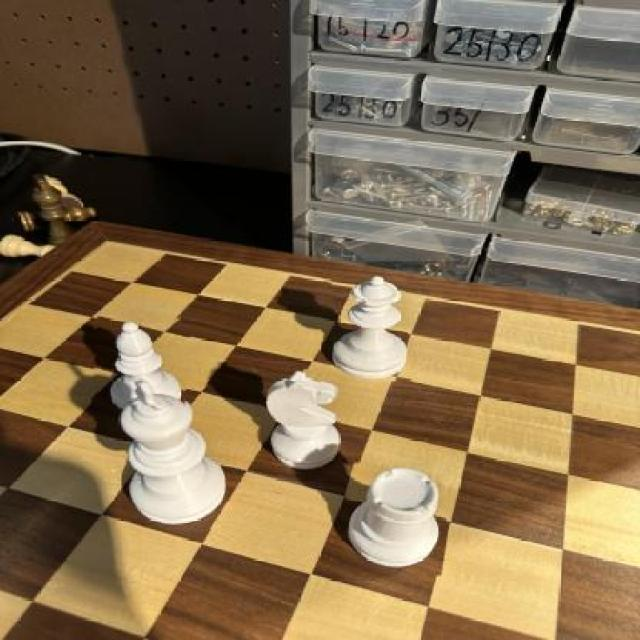black-rook: (94, 315, 191, 407)
white-bishop: (117, 385, 230, 529)
white-king: (264, 370, 342, 476)
white-pawn: (334, 272, 411, 384)
white-queen: (344, 460, 448, 580)
